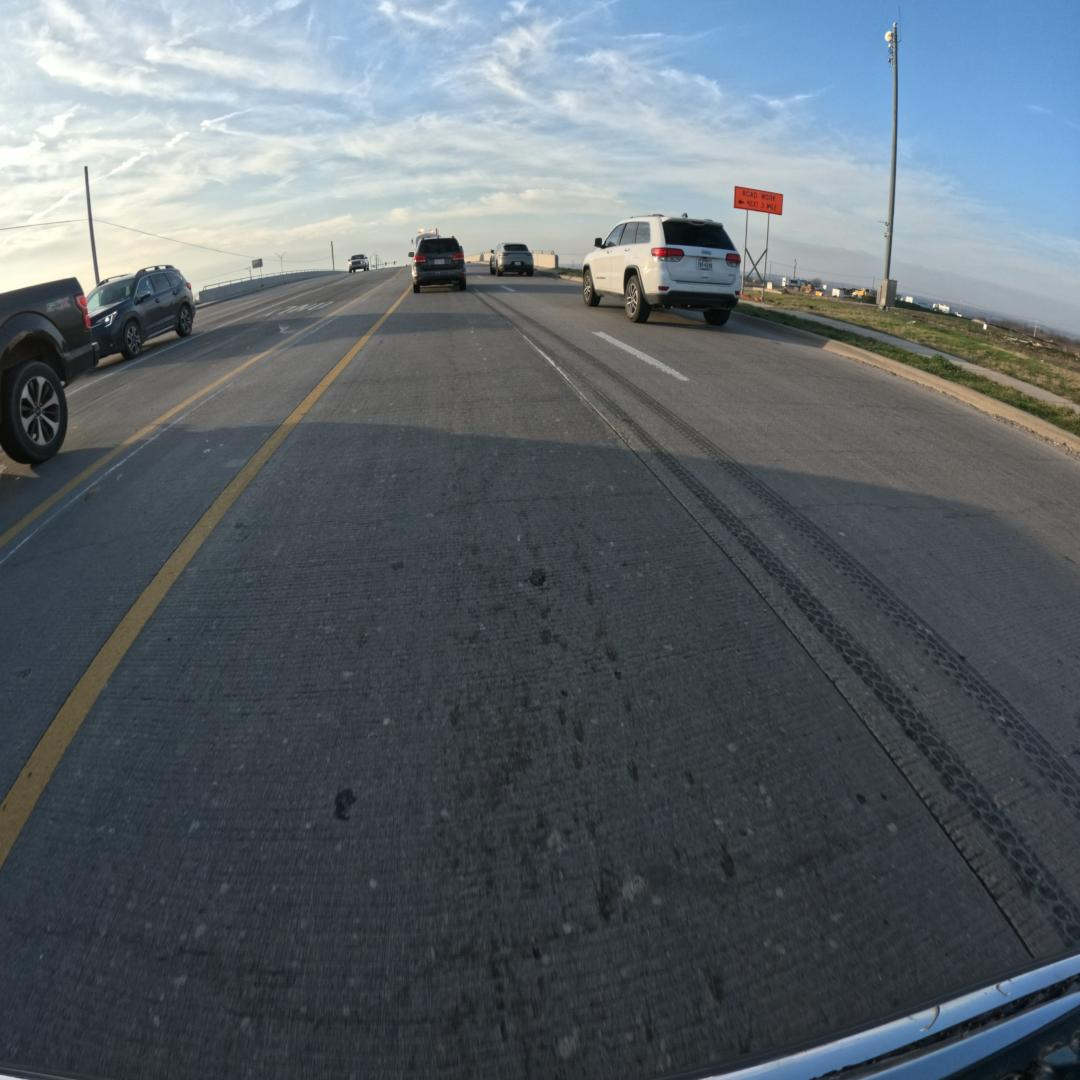lane-1: (480, 273, 1080, 651)
lane0: (0, 282, 1080, 1080)
